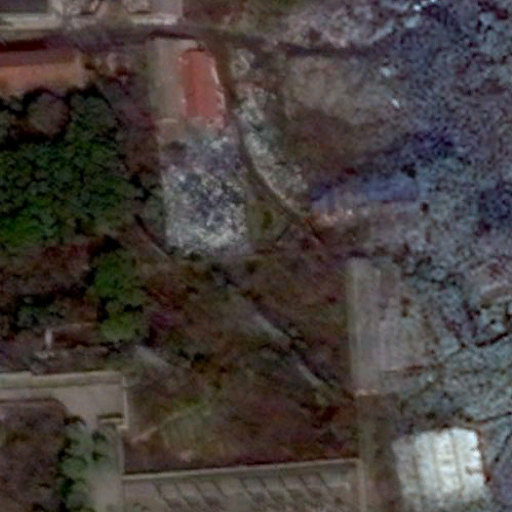msw: (160, 138, 248, 252)
